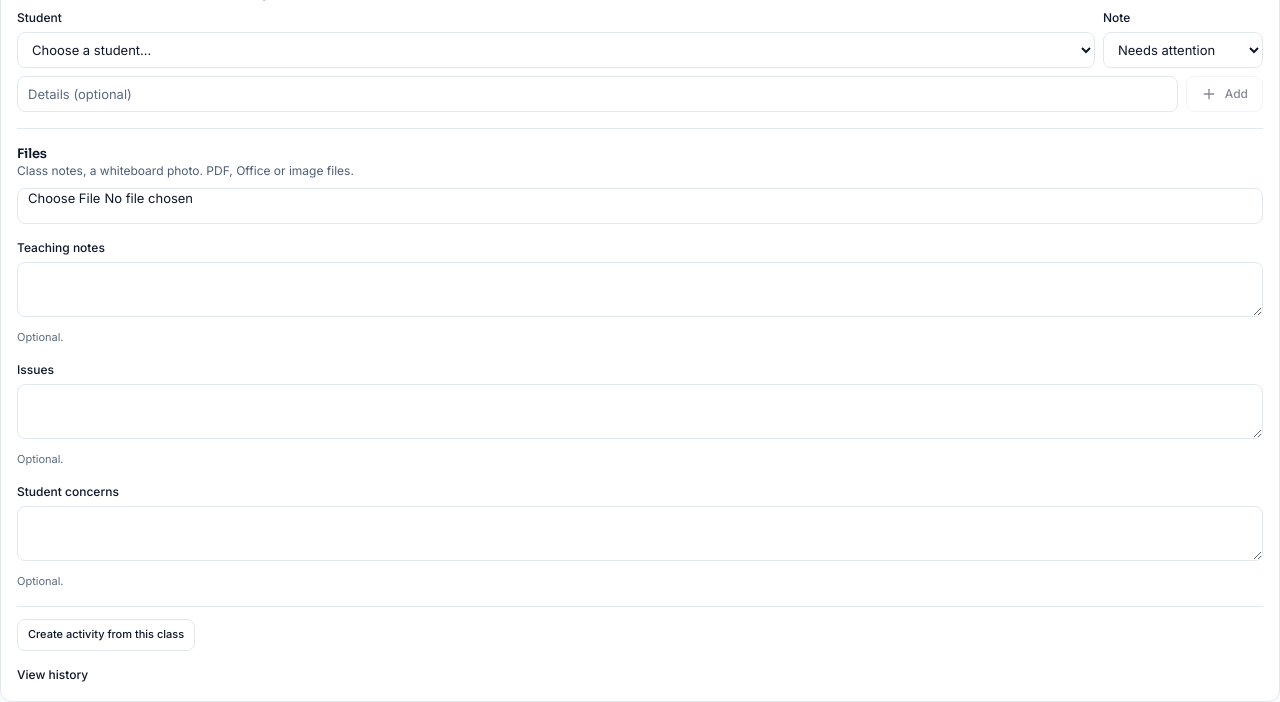
Test: DsrPanel — follow-up (create activity, history) › surfaces a server error on a failed submission without losing the picked values
The width and height of the screenshot is (1280, 702).
(page scrolled)
Step 1. Click the button "Create activity from this class" → (106, 635), box [17,619,195,651]
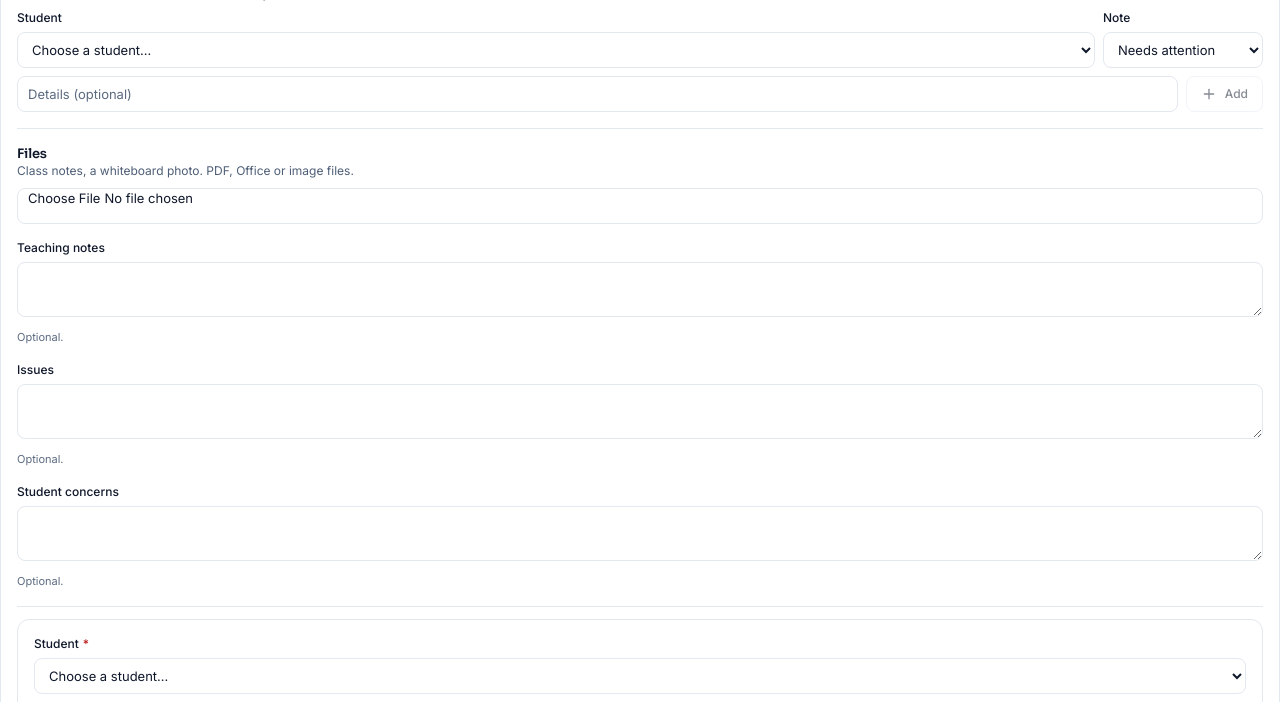
Step 2. Select "Sam Student (GRS-S-001)" in the dropdown labelled "Student*" → (640, 676), box [34,658,1246,694]
(page scrolled)
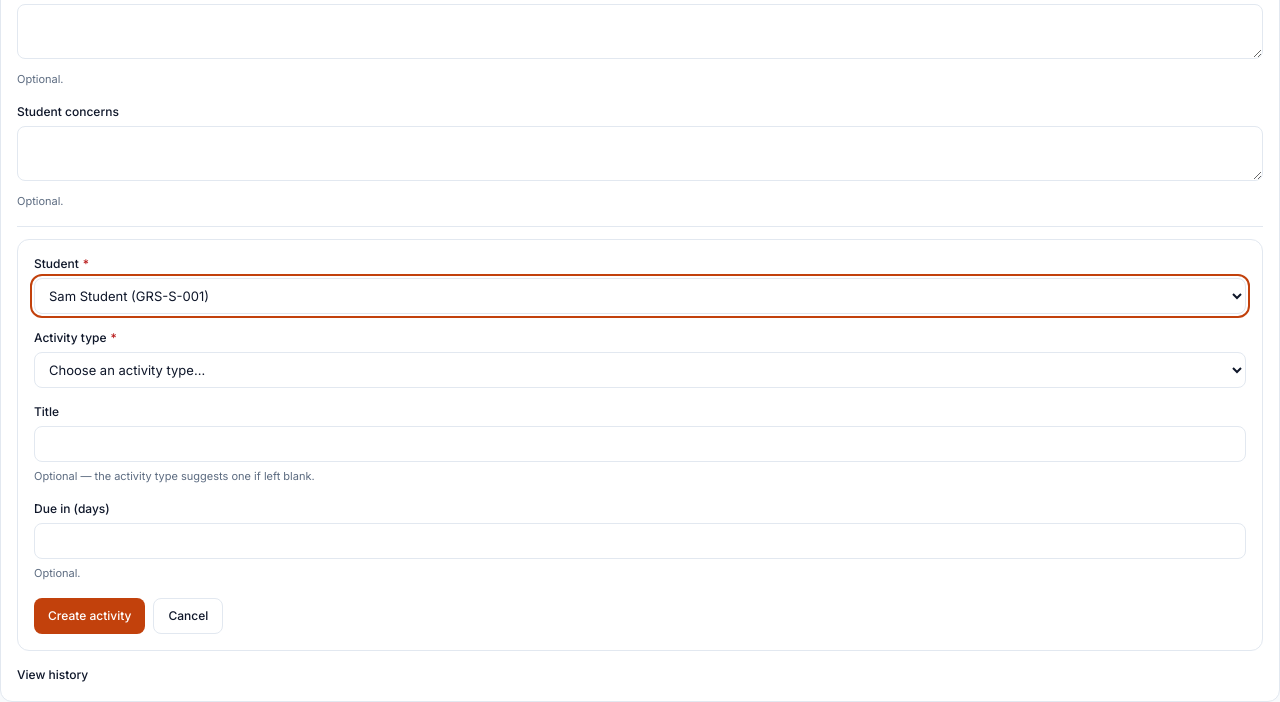
Step 3. Select "Mentoring" in the dropdown labelled "Activity type*" → (640, 370), box [34,352,1246,388]
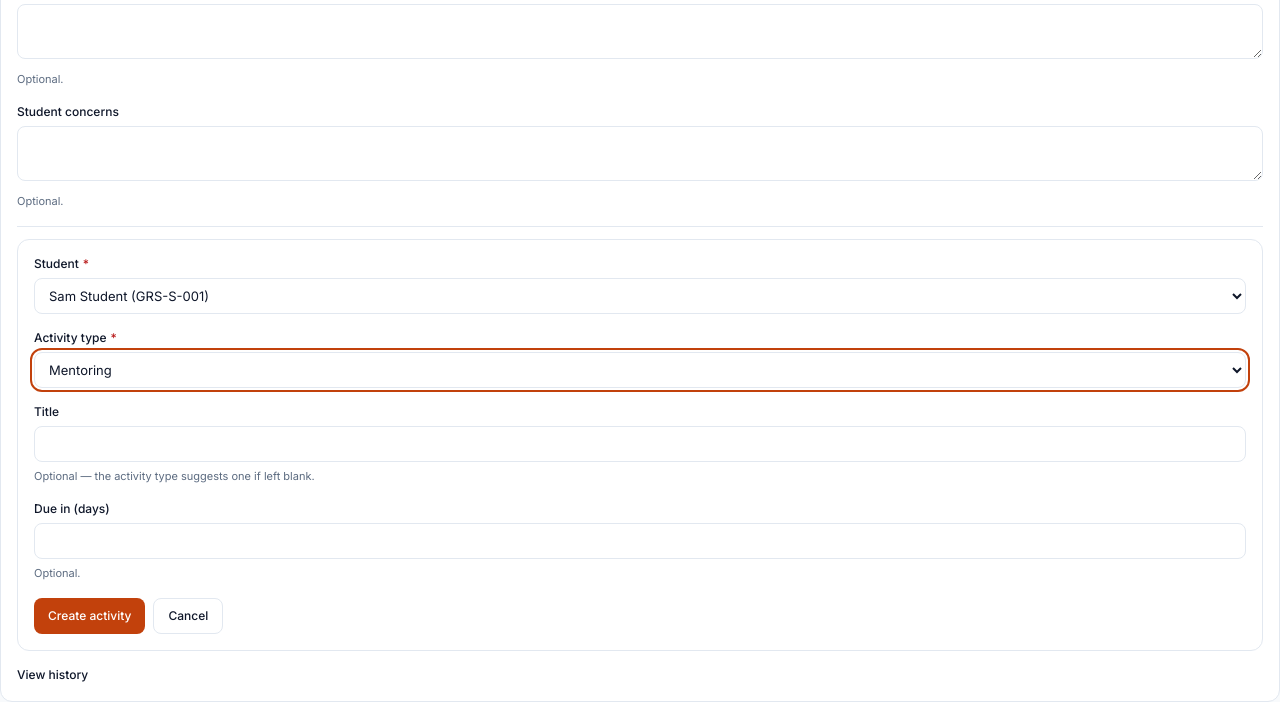
Step 4. Click the button "Create activity" → (90, 616), box [34,598,145,634]
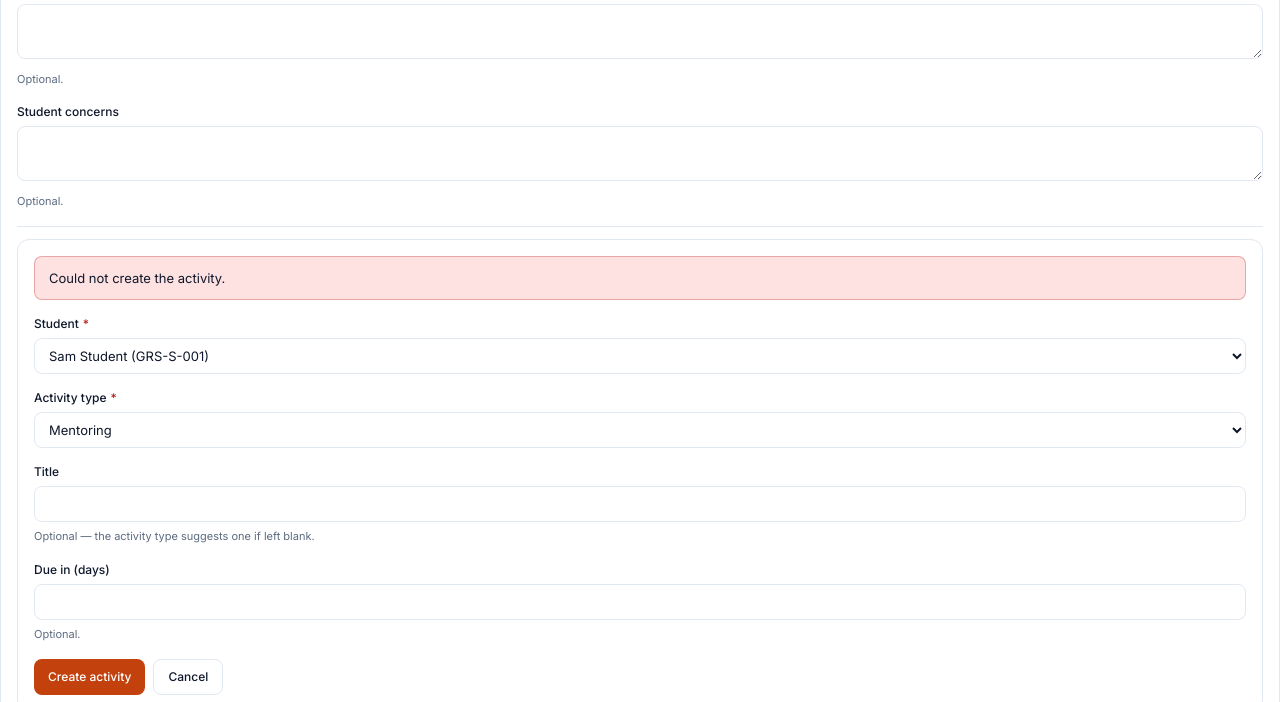
Now the text "Could not create the activity." is shown, box [34,256,1246,300]
